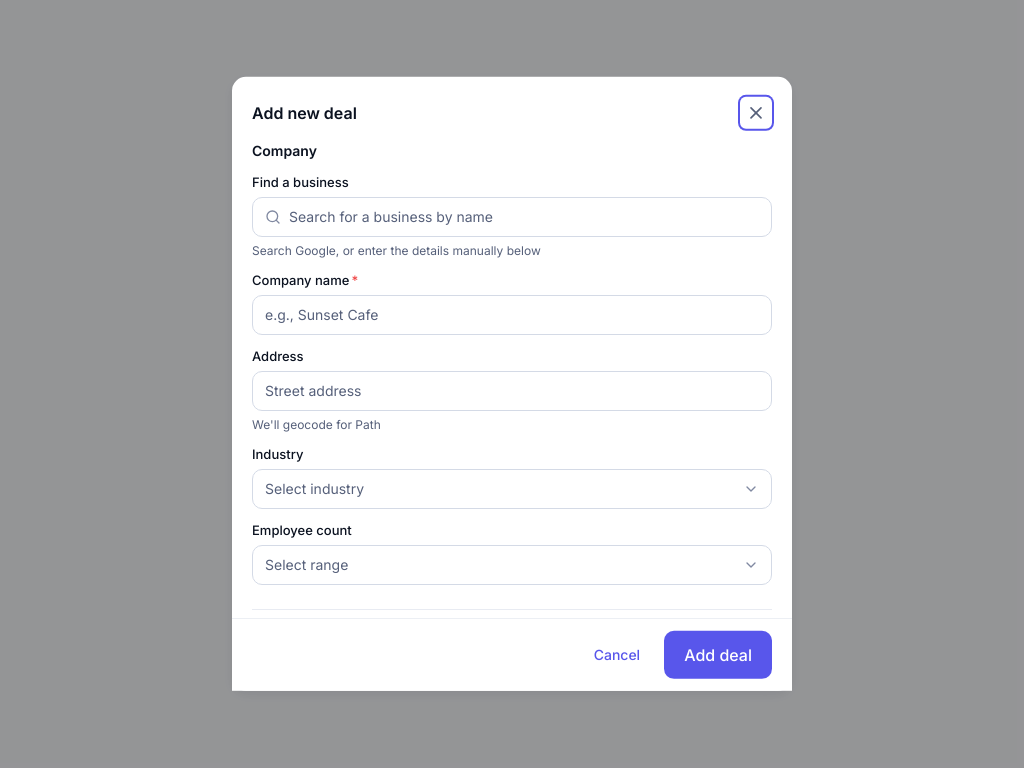
Test: AddDealSheet: prospect capture (contact fields optional, lead source still required) › still requires a lead source on a manual deal (blocked with only a company name)
Type "Sunset Cafe" into the field with id "companyName" at (512, 315), box [265,305,759,325]
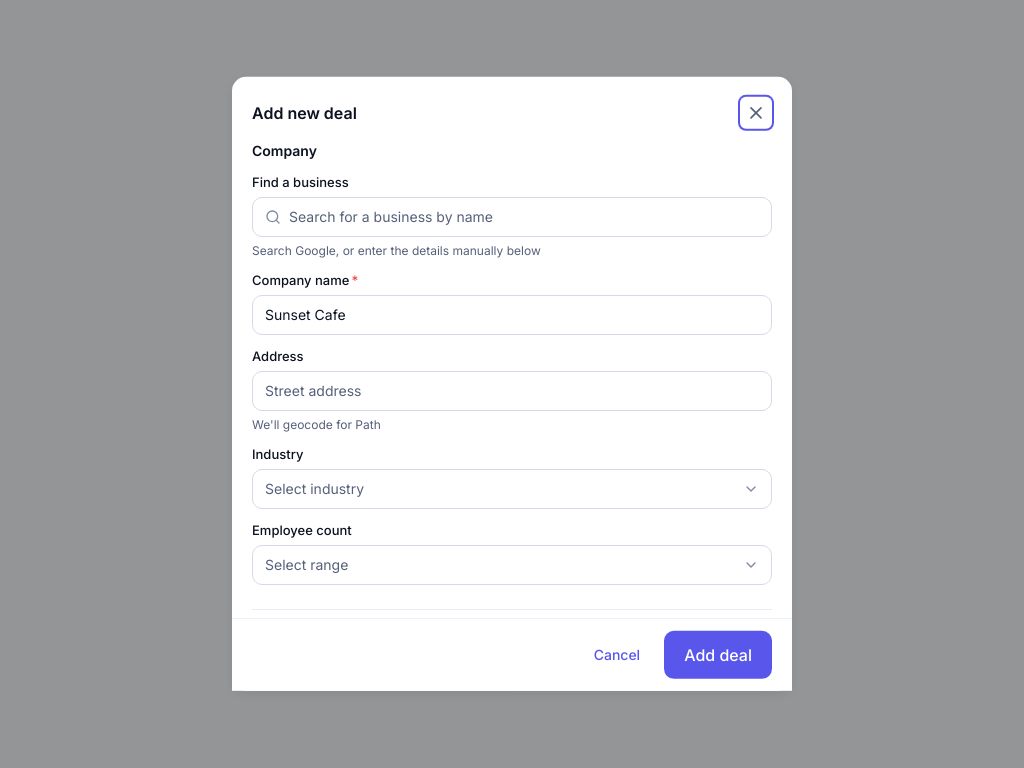
Click the button "Add deal" at (718, 655), box [664,631,772,679]
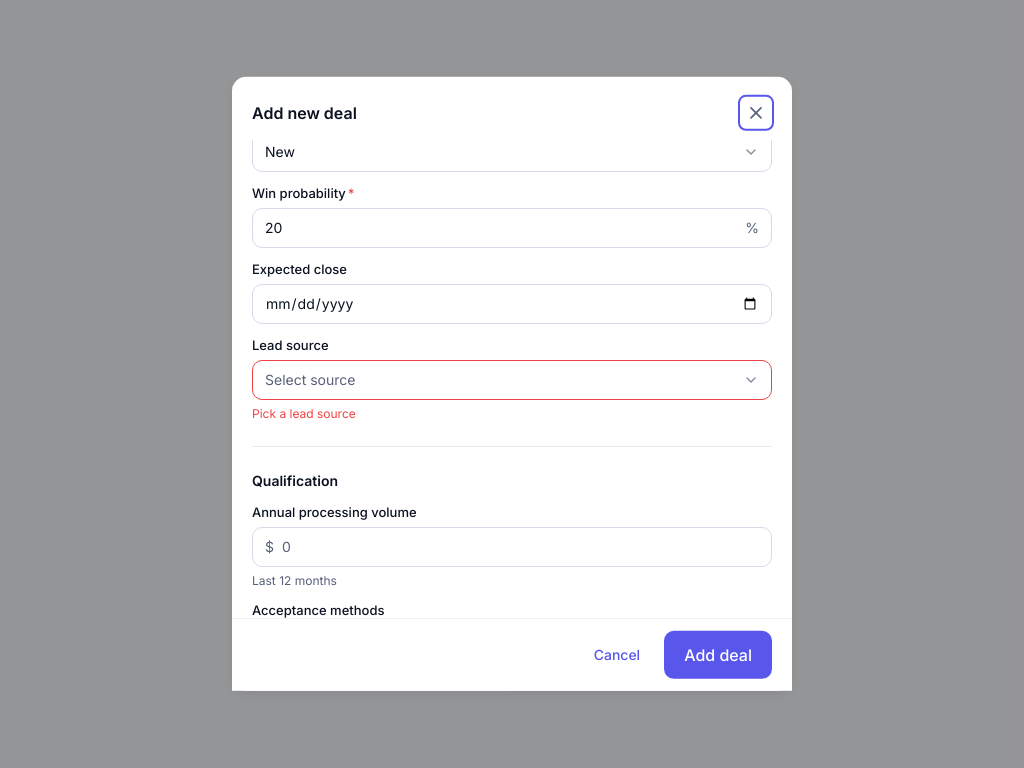
Check: the text "Pick a lead source" is shown, box [252,406,356,421]
